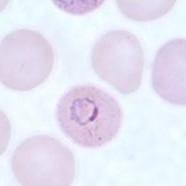Infected: (56, 84, 123, 149)
Uninfected: (92, 30, 145, 96), (0, 29, 55, 89), (12, 135, 75, 186)
